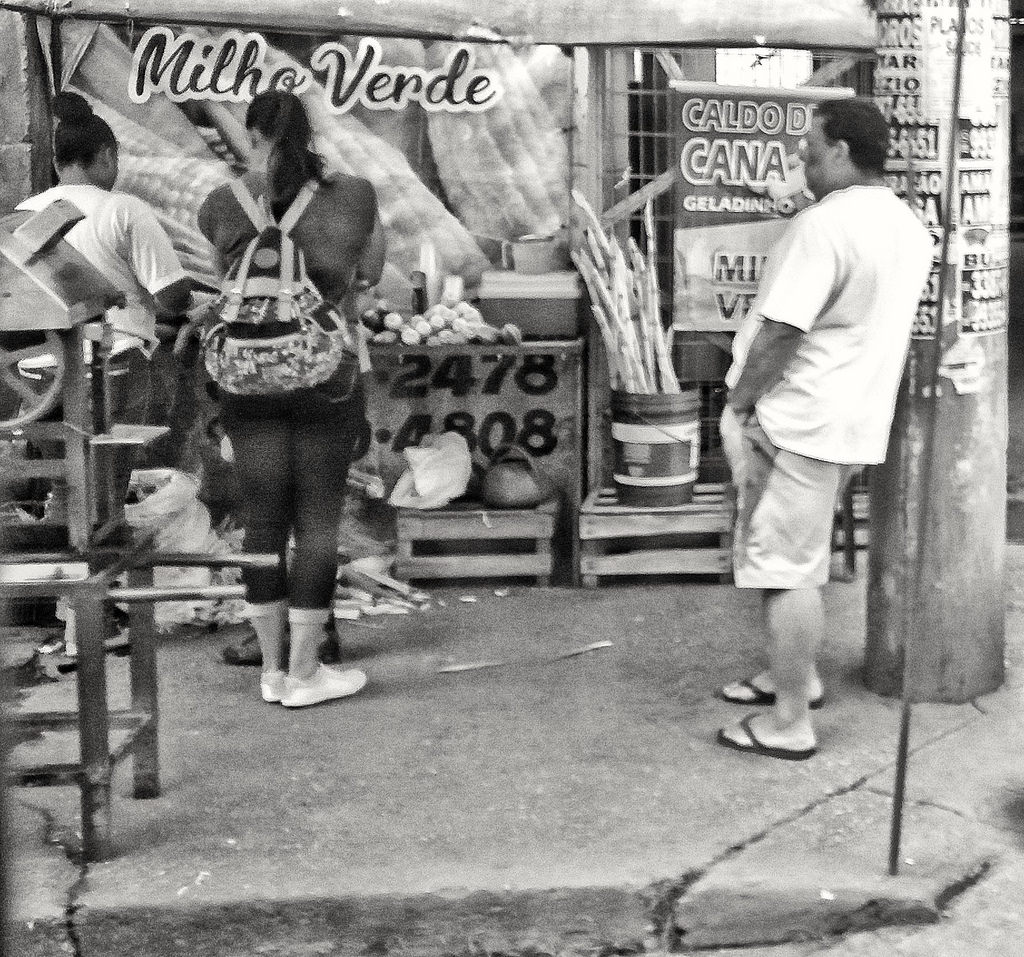Humano: (713, 88, 944, 770), (213, 78, 389, 715), (24, 92, 194, 347)
